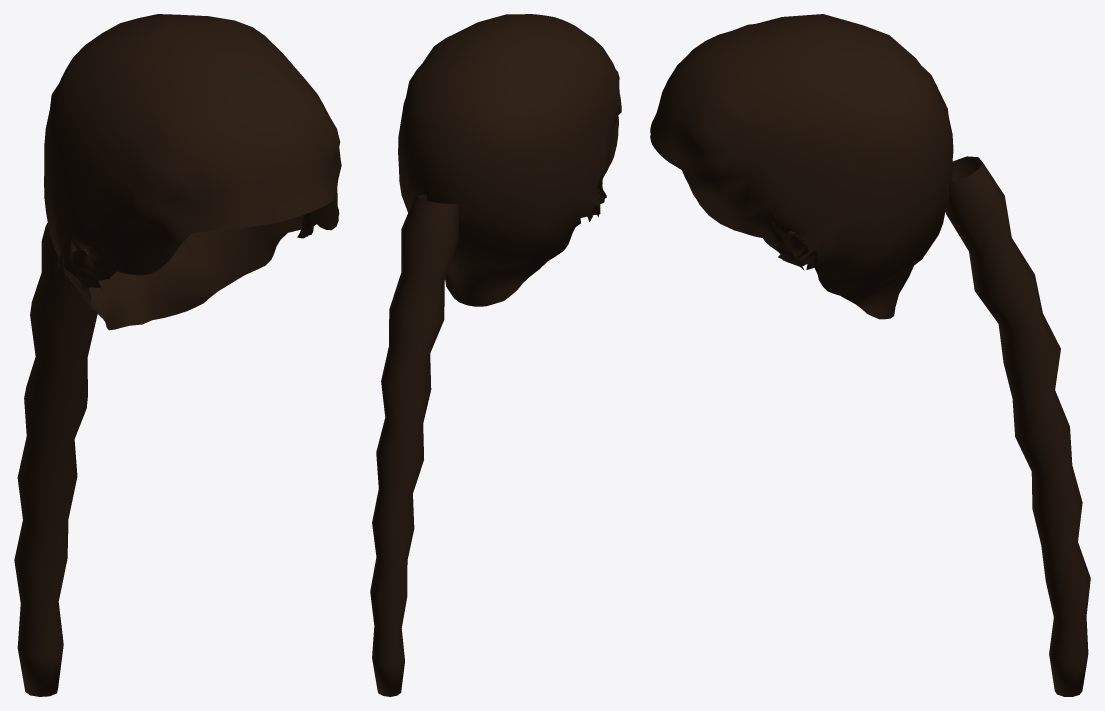
The model's file is hair_braid.glb.
The picture shows the model from 3 angles, left to right: view 1: azimuth 30°, elevation 25°; view 2: azimuth 150°, elevation 25°; view 3: azimuth 270°, elevation 25°; orthographic projection. The views are drawn at different scales.
Parts seen in each view (by area): view 1: hair_braid; view 2: hair_braid; view 3: hair_braid.
Boxes of the visible parts, bbox=[...] form: hair_braid: bbox=[14, 14, 341, 696]; hair_braid: bbox=[370, 14, 621, 696]; hair_braid: bbox=[650, 14, 1090, 696].
Size of the model in its own units: 0.1862 by 0.5337 by 0.3221.
